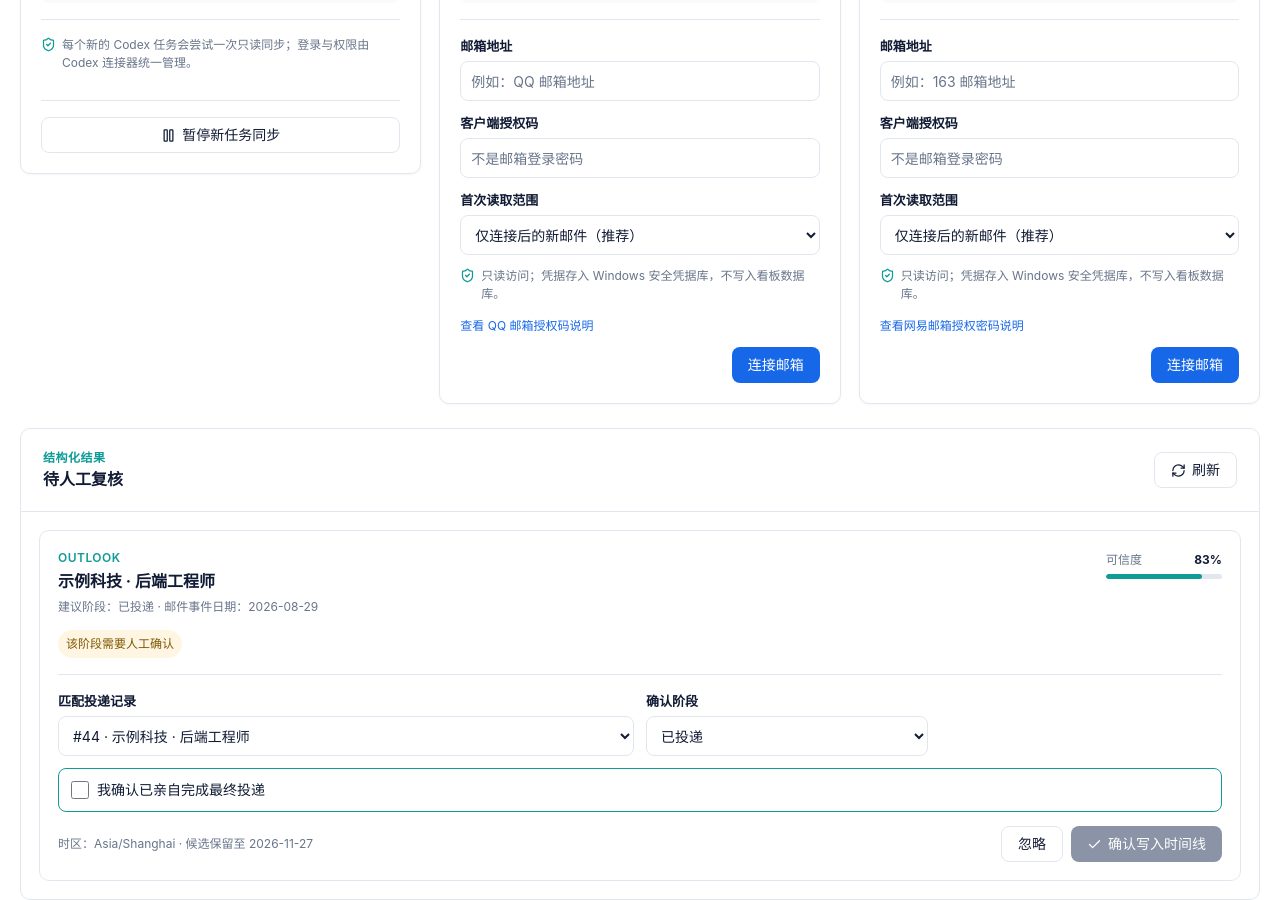
MailIngestionView › 邮件识别的“已投递”必须本人确认后才能写入
The image size is (1280, 900).
(page scrolled)
Check: the button "确认写入时间线" is disabled, box [1071, 826, 1222, 862]
Click the checkbox labelled "我确认已亲自完成最终投递": (80,790) [71, 781, 89, 799]
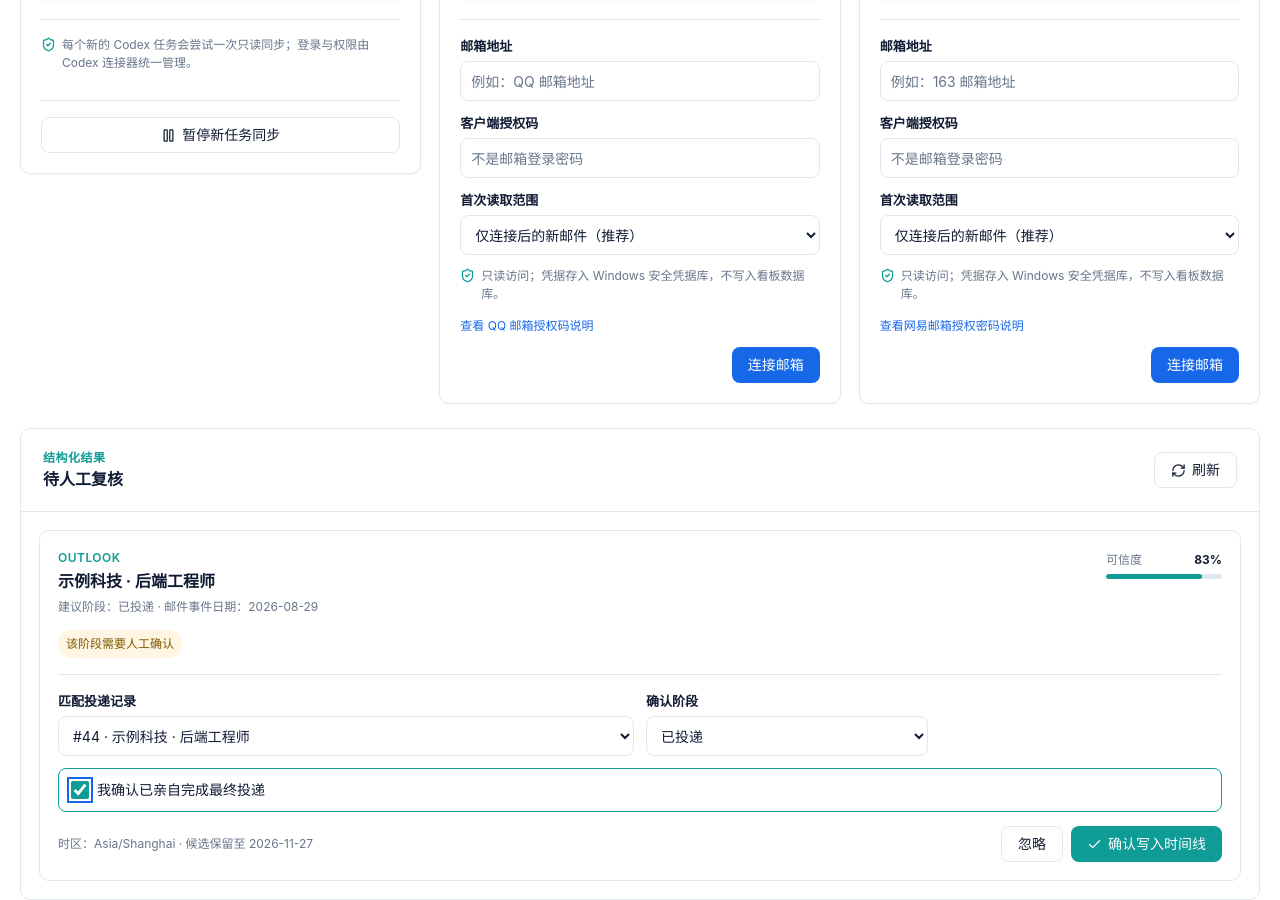
Check: the button "确认写入时间线" is enabled, box [1071, 826, 1222, 862]
